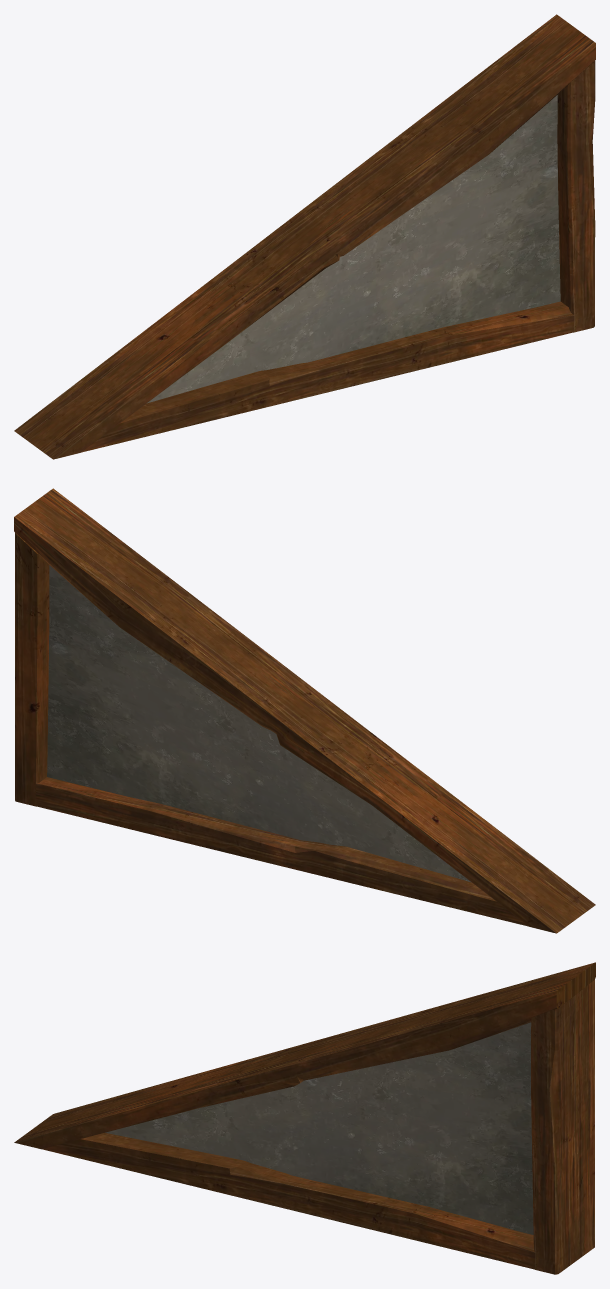
The picture shows the model from 3 angles, top to bottom: view 1: azimuth 30°, elevation 25°; view 2: azimuth 150°, elevation 25°; view 3: azimuth 330°, elevation 25°; orthographic projection.
Visible parts, largest first — view 1: SM_BB_T2_Wall_Slanted_Shallow_Large_LOD0; view 2: SM_BB_T2_Wall_Slanted_Shallow_Large_LOD0; view 3: SM_BB_T2_Wall_Slanted_Shallow_Large_LOD0.
Boxes of the visible parts, x1=… form: SM_BB_T2_Wall_Slanted_Shallow_Large_LOD0: x1=14, y1=14, x2=595, y2=459; SM_BB_T2_Wall_Slanted_Shallow_Large_LOD0: x1=14, y1=488, x2=595, y2=933; SM_BB_T2_Wall_Slanted_Shallow_Large_LOD0: x1=14, y1=962, x2=595, y2=1274.
Size of the model in its own units: 3 by 1.5 by 0.3774.
2 materials, 2 textured.
